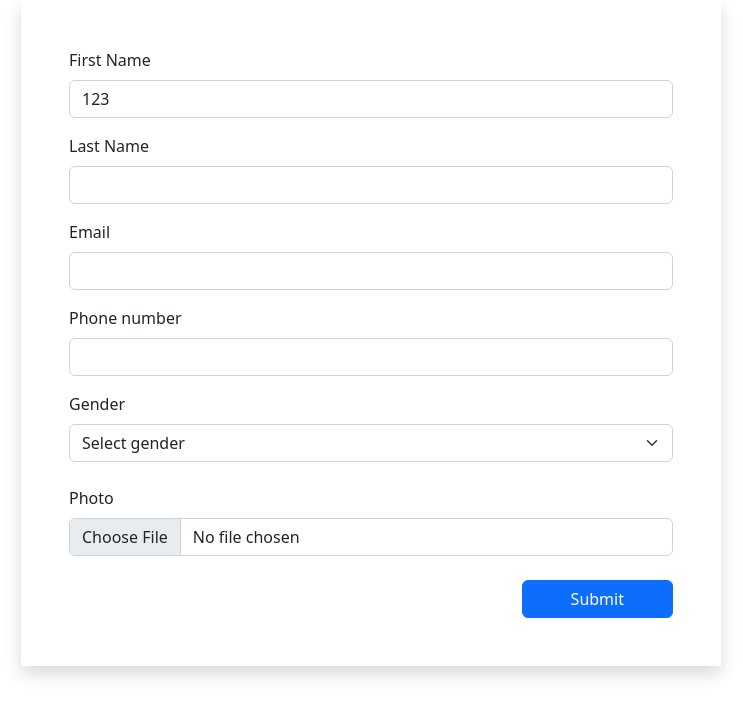
Test: Testing form component › testing firstname with numbers
What coordinates should you click on to do the following:
click the button "Submit"
I would click on:
 (597, 599)
Its box is [522, 580, 673, 618].
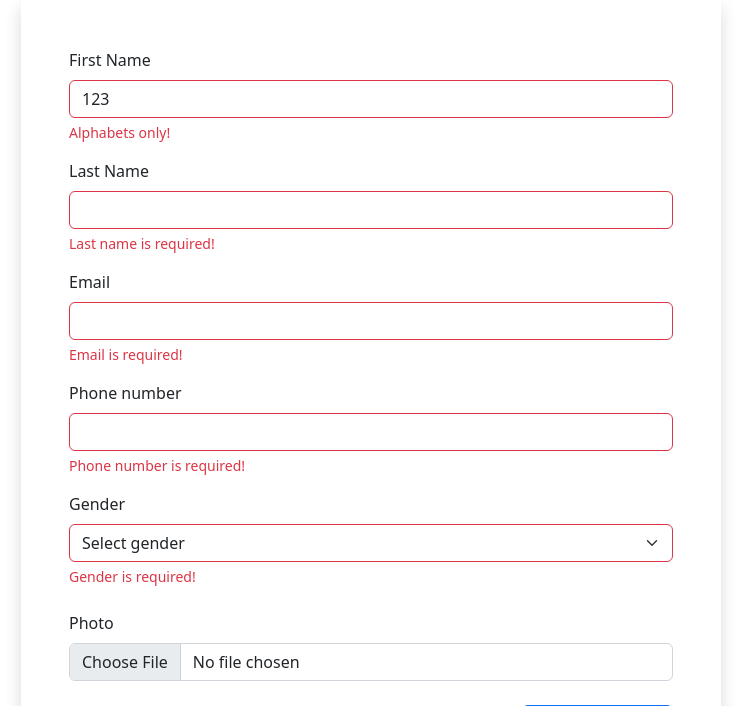
Now the text "Alphabets only!" is shown, box [69, 123, 170, 142]
